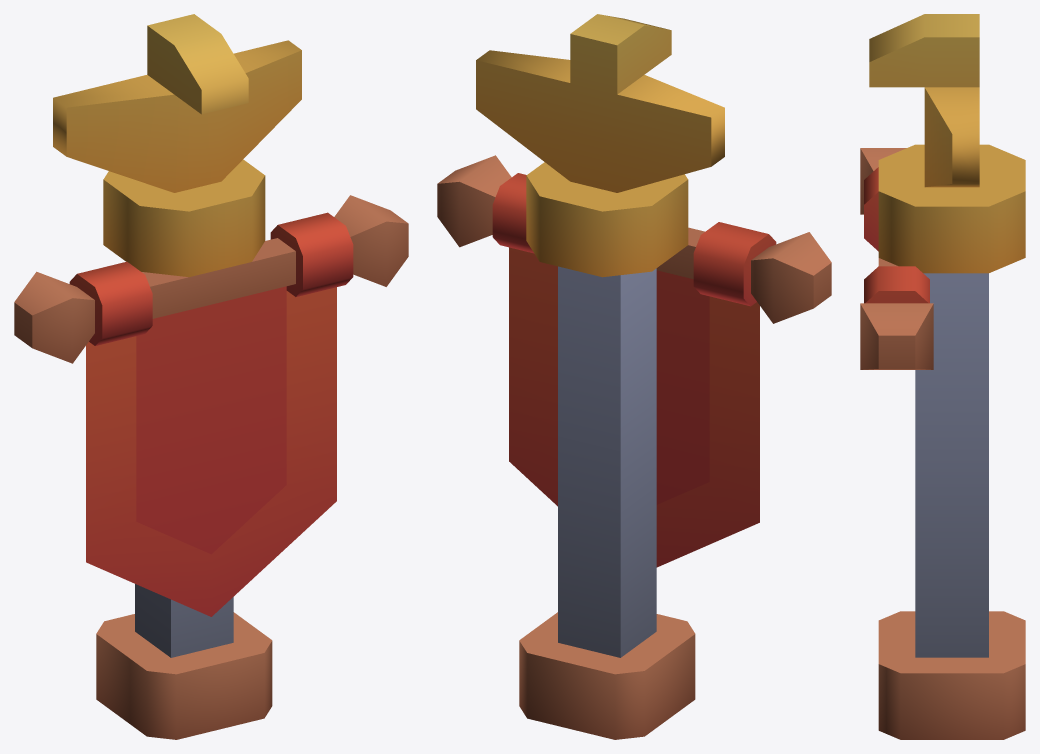
File: ma-banner.glb
3 views of the same model, side by side, from view 1: azimuth 30°, elevation 25°; view 2: azimuth 150°, elevation 25°; view 3: azimuth 270°, elevation 25° (orthographic).
Parts seen in each view (by area): view 1: banner; view 2: banner; view 3: banner.
Part boxes in pixels (x1,y1,x2,y2): banner: [14, 14, 408, 739]; banner: [437, 14, 831, 739]; banner: [860, 14, 1025, 739].
Size of the model in its own units: 0.6 by 1.02 by 0.225.
